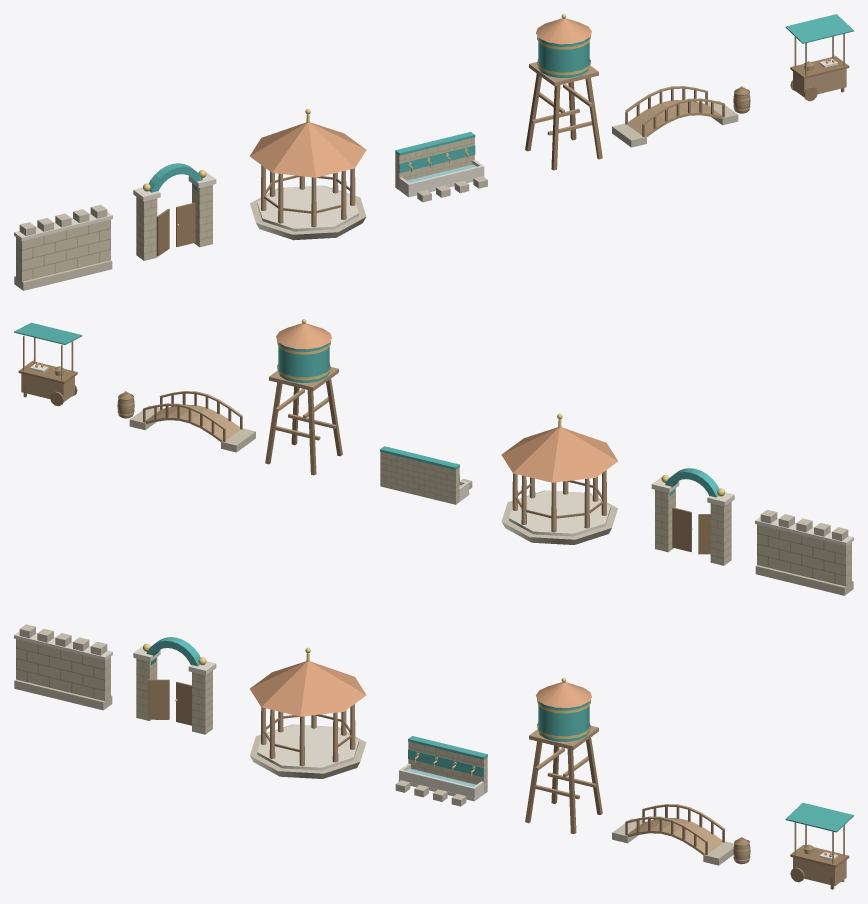
The model's file is kit-20-eksterior-2.glb.
3 views of the same model, one above another, from view 1: azimuth 30°, elevation 25°; view 2: azimuth 150°, elevation 25°; view 3: azimuth 330°, elevation 25° (orthographic).
Parts seen in each view (by area): view 1: PropEx2_Gazebo, PropEx2_PagarTembok, PropEx2_MenaraAir, PropEx2_GerbangTaman, PropEx2_TempatWudhu, PropEx2_TendaKakiLima, PropEx2_Jembatan; view 2: PropEx2_Gazebo, PropEx2_PagarTembok, PropEx2_MenaraAir, PropEx2_GerbangTaman, PropEx2_TempatWudhu, PropEx2_Jembatan, PropEx2_TendaKakiLima; view 3: PropEx2_Gazebo, PropEx2_PagarTembok, PropEx2_MenaraAir, PropEx2_GerbangTaman, PropEx2_TempatWudhu, PropEx2_TendaKakiLima, PropEx2_Jembatan.
Boxes of the visible parts, box(x1,y1,x2,y2) form: PropEx2_Gazebo: box(249, 109, 366, 240); PropEx2_PagarTembok: box(14, 205, 112, 290); PropEx2_MenaraAir: box(525, 14, 602, 170); PropEx2_GerbangTaman: box(133, 163, 216, 260); PropEx2_TempatWudhu: box(395, 132, 487, 202); PropEx2_TendaKakiLima: box(785, 14, 853, 101); PropEx2_Jembatan: box(612, 86, 738, 147); PropEx2_Gazebo: box(501, 413, 618, 544); PropEx2_PagarTembok: box(755, 509, 853, 595); PropEx2_MenaraAir: box(265, 319, 342, 475); PropEx2_GerbangTaman: box(651, 468, 734, 565); PropEx2_TempatWudhu: box(380, 446, 472, 504); PropEx2_Jembatan: box(129, 391, 255, 452); PropEx2_TendaKakiLima: box(14, 322, 82, 406); PropEx2_Gazebo: box(250, 647, 366, 778); PropEx2_PagarTembok: box(14, 624, 112, 710); PropEx2_MenaraAir: box(525, 678, 602, 833); PropEx2_GerbangTaman: box(133, 637, 216, 734); PropEx2_TempatWudhu: box(395, 736, 487, 806); PropEx2_TendaKakiLima: box(785, 802, 853, 889); PropEx2_Jembatan: box(612, 804, 733, 865).
Size of the model in its own units: 37.2 by 6.03 by 4.7.
11 materials, 1 textured.
